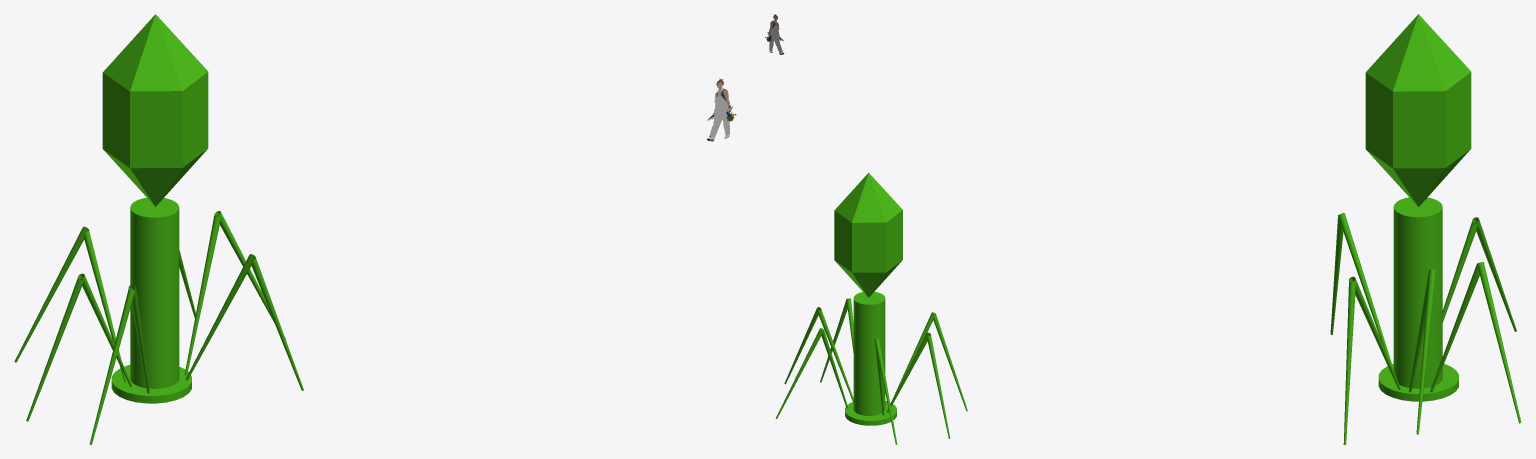
Rendered from virus.obj.
3 views of the same model, side by side, from view 1: azimuth 30°, elevation 25°; view 2: azimuth 150°, elevation 25°; view 3: azimuth 270°, elevation 25° (orthographic). The views are drawn at different scales.
Parts seen in each view (by area): view 1: Mesh2 Model, Mesh3 Model, Mesh10 Model, Mesh1 Lisanne1 Model, Mesh15 Model, Mesh13 Model, Mesh7 Model, Mesh9 Model, Mesh6 Model, Mesh8 Model; view 2: Mesh2 Model, Mesh3 Model, Mesh7 Model, Mesh13 Model, Mesh1 Lisanne1 Model, Mesh10 Model, Mesh15 Model, Mesh4 Model, Mesh14 Model, Mesh12 Model, Mesh11 Model, Mesh5 Model (+1 smaller); view 3: Mesh2 Model, Mesh3 Model, Mesh11 Model, Mesh4 Model, Mesh14 Model, Mesh8 Model, Mesh5 Model, Mesh6 Model, Mesh9 Model, Mesh7 Model, Mesh15 Model.
Boxes of the visible parts, x1=… form: Mesh2 Model: x1=102, y1=14, x2=208, y2=206; Mesh3 Model: x1=111, y1=197, x2=191, y2=403; Mesh10 Model: x1=184, y1=215, x2=220, y2=375; Mesh1 Lisanne1 Model: x1=707, y1=78, x2=736, y2=141; Mesh15 Model: x1=89, y1=288, x2=134, y2=444; Mesh13 Model: x1=26, y1=277, x2=83, y2=421; Mesh7 Model: x1=14, y1=226, x2=89, y2=362; Mesh9 Model: x1=185, y1=254, x2=255, y2=380; Mesh6 Model: x1=84, y1=231, x2=126, y2=382; Mesh8 Model: x1=251, y1=257, x2=303, y2=390; Mesh2 Model: x1=834, y1=172, x2=902, y2=297; Mesh3 Model: x1=845, y1=291, x2=896, y2=425; Mesh7 Model: x1=874, y1=339, x2=897, y2=444; Mesh13 Model: x1=927, y1=335, x2=950, y2=438; Mesh1 Lisanne1 Model: x1=765, y1=14, x2=784, y2=54; Mesh10 Model: x1=818, y1=309, x2=853, y2=402; Mesh15 Model: x1=933, y1=315, x2=967, y2=411; Mesh4 Model: x1=775, y1=328, x2=823, y2=418; Mesh14 Model: x1=890, y1=312, x2=935, y2=403; Mesh12 Model: x1=886, y1=332, x2=930, y2=412; Mesh11 Model: x1=784, y1=307, x2=821, y2=384; Mesh5 Model: x1=821, y1=330, x2=848, y2=408; Mesh2 Model: x1=1365, y1=14, x2=1471, y2=206; Mesh3 Model: x1=1378, y1=197, x2=1458, y2=401; Mesh11 Model: x1=1416, y1=269, x2=1436, y2=434; Mesh4 Model: x1=1477, y1=262, x2=1521, y2=423; Mesh14 Model: x1=1338, y1=213, x2=1393, y2=369; Mesh8 Model: x1=1343, y1=281, x2=1355, y2=444; Mesh5 Model: x1=1430, y1=264, x2=1479, y2=392; Mesh6 Model: x1=1442, y1=220, x2=1478, y2=322; Mesh9 Model: x1=1348, y1=276, x2=1400, y2=389; Mesh7 Model: x1=1472, y1=217, x2=1516, y2=331; Mesh15 Model: x1=1330, y1=217, x2=1343, y2=334.
Size of the model in its own units: 565 by 414 by 515.
